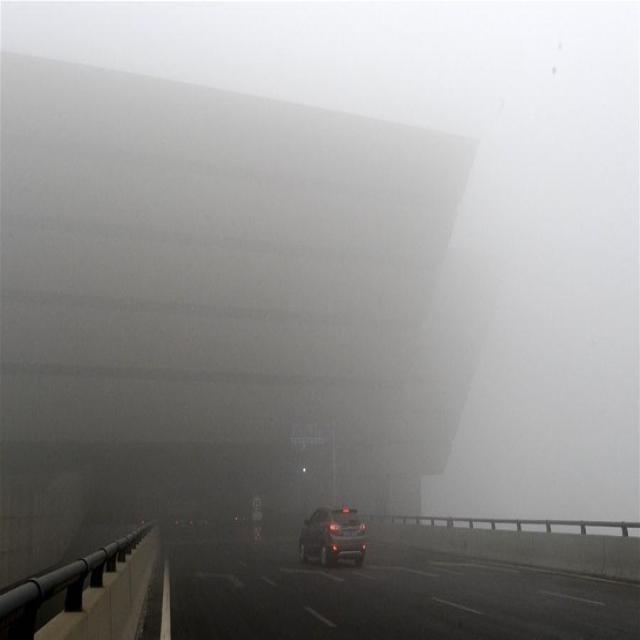Car: (298, 506, 367, 568), (168, 509, 196, 540)
